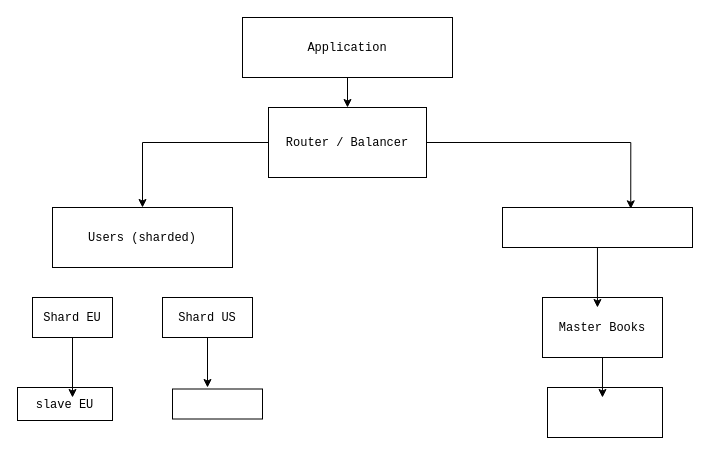
Image size: 710x455. Some labels were removed from this diagram. The centre of each missing label's shape, as x and y in pixels:
Books & Stores (vertical): point (597, 227)
Master Stores: point (604, 412)
slave US: point (217, 403)
